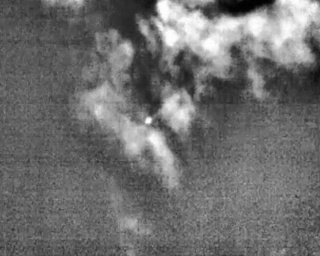AIRPLANE: (142, 114, 155, 127)
